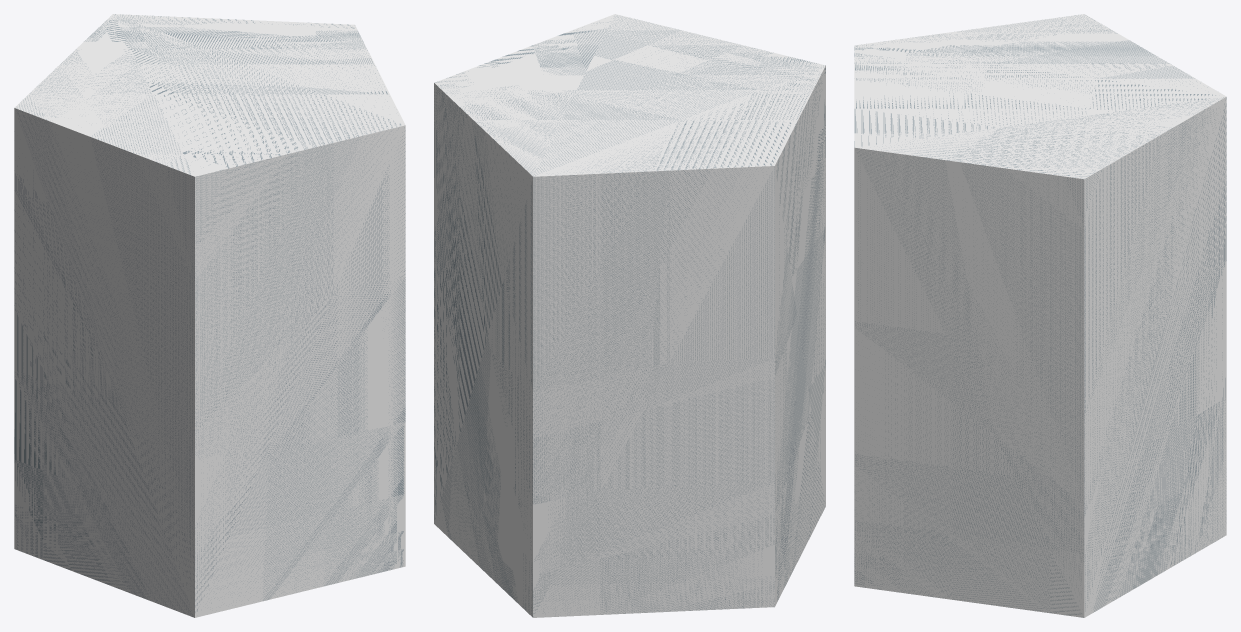
3 views of the same model, side by side, from view 1: azimuth 30°, elevation 25°; view 2: azimuth 150°, elevation 25°; view 3: azimuth 270°, elevation 25° (orthographic).
Parts seen in each view (by area): view 1: Model; view 2: Model; view 3: Model.
Boxes of the visible parts, bbox=[...] form: Model: bbox=[14, 14, 405, 617]; Model: bbox=[434, 14, 825, 617]; Model: bbox=[854, 14, 1226, 617].
Size of the model in its own units: 4.85 by 6 by 4.62.
